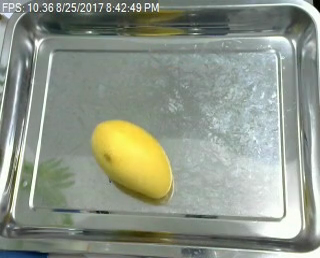Mango: (89, 119, 178, 204)
